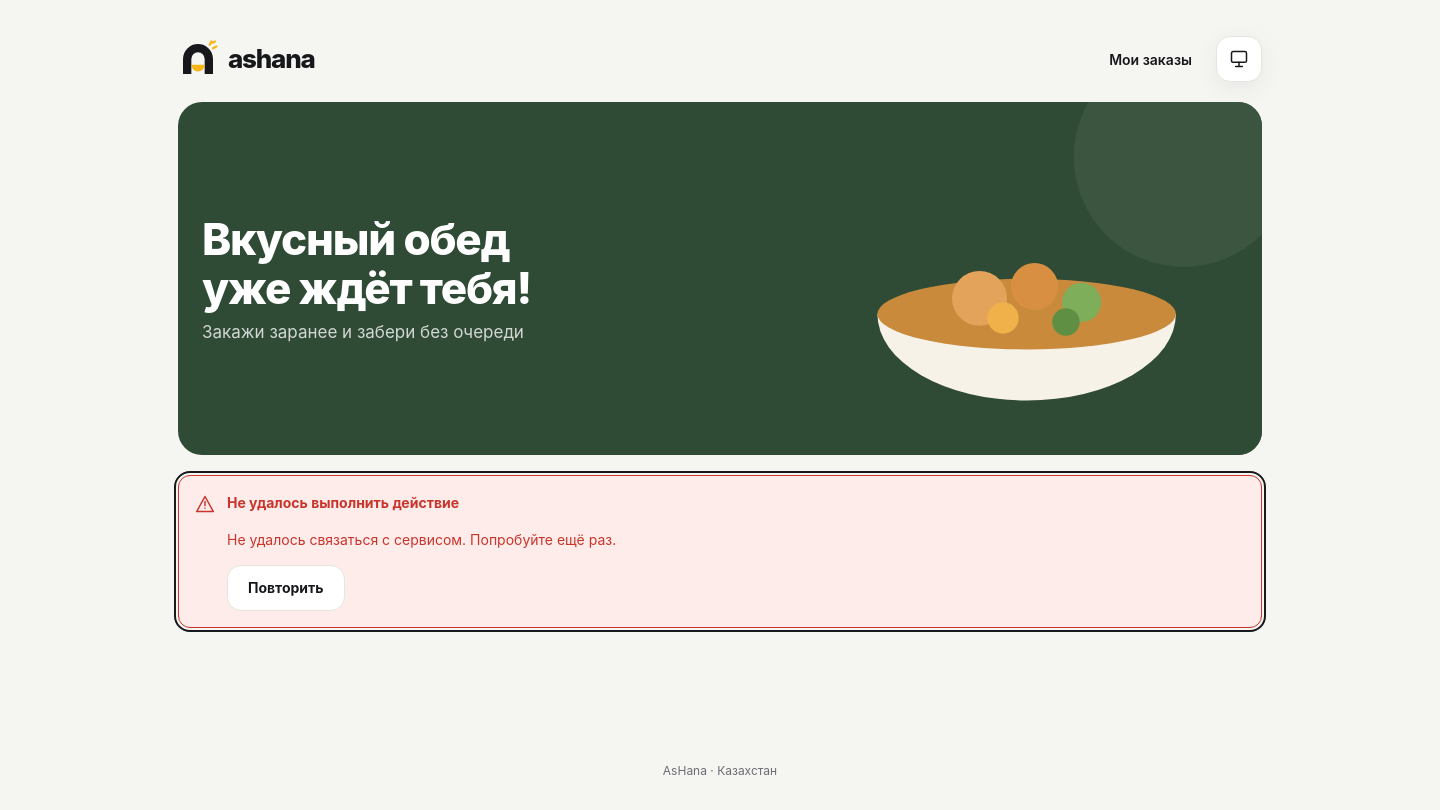
Стартовый экран › показывает загрузку, отказ и успешный повтор
The image size is (1440, 810).
Expected: the text "Не удалось связаться с сервисом. Попробуйте ещё раз." is shown, 227,529 -> 616,551
Click the button "Повторить".
click(286, 588)  # box 227,565 -> 345,611
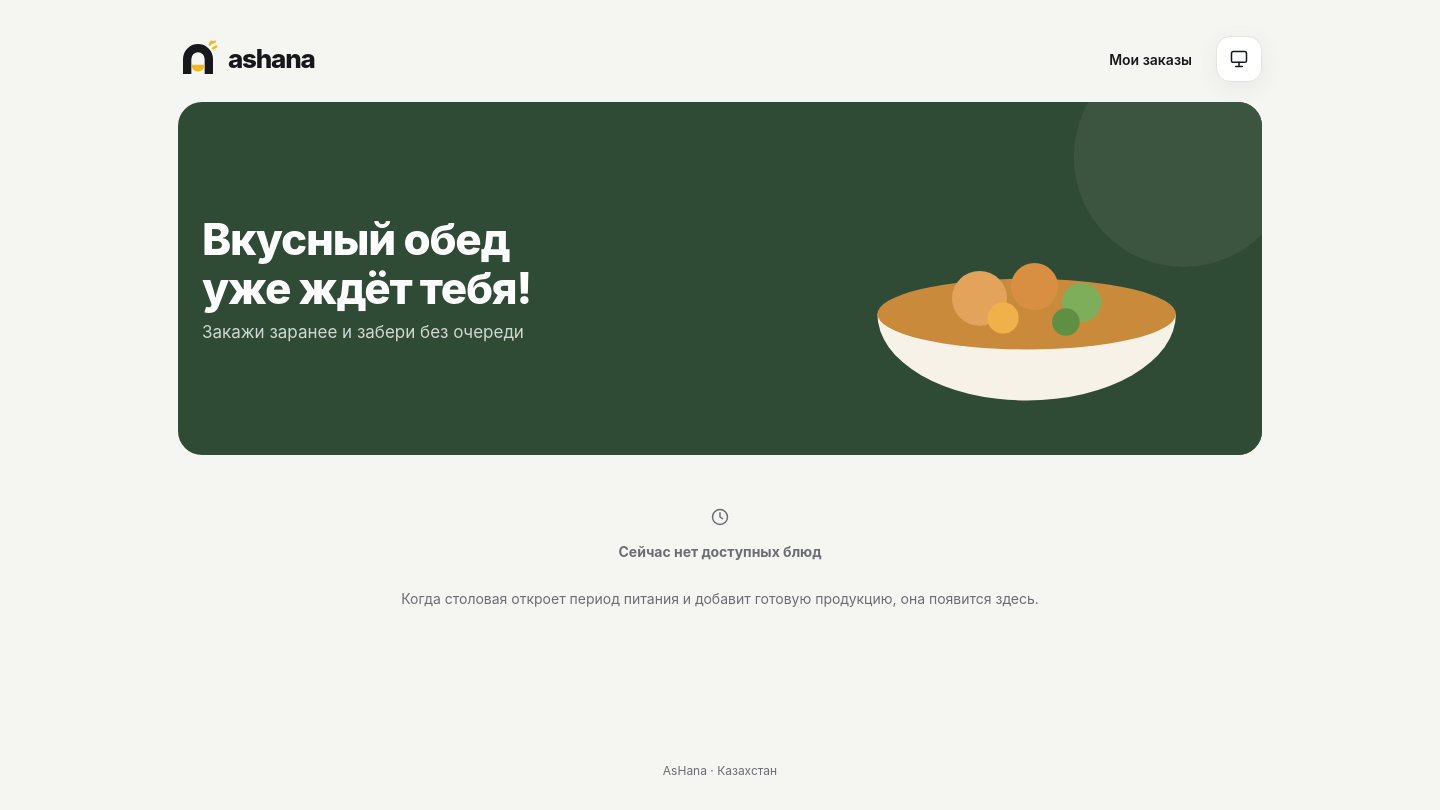
Expected: the text "Закажи заранее и забери без очереди" is shown, 202,322 -> 524,342
Now the text "Сейчас нет доступных блюд" is shown, box 618,544 -> 822,560
